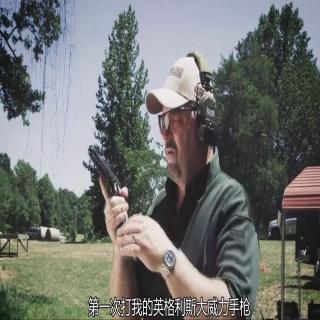gun: (85, 144, 133, 236)
